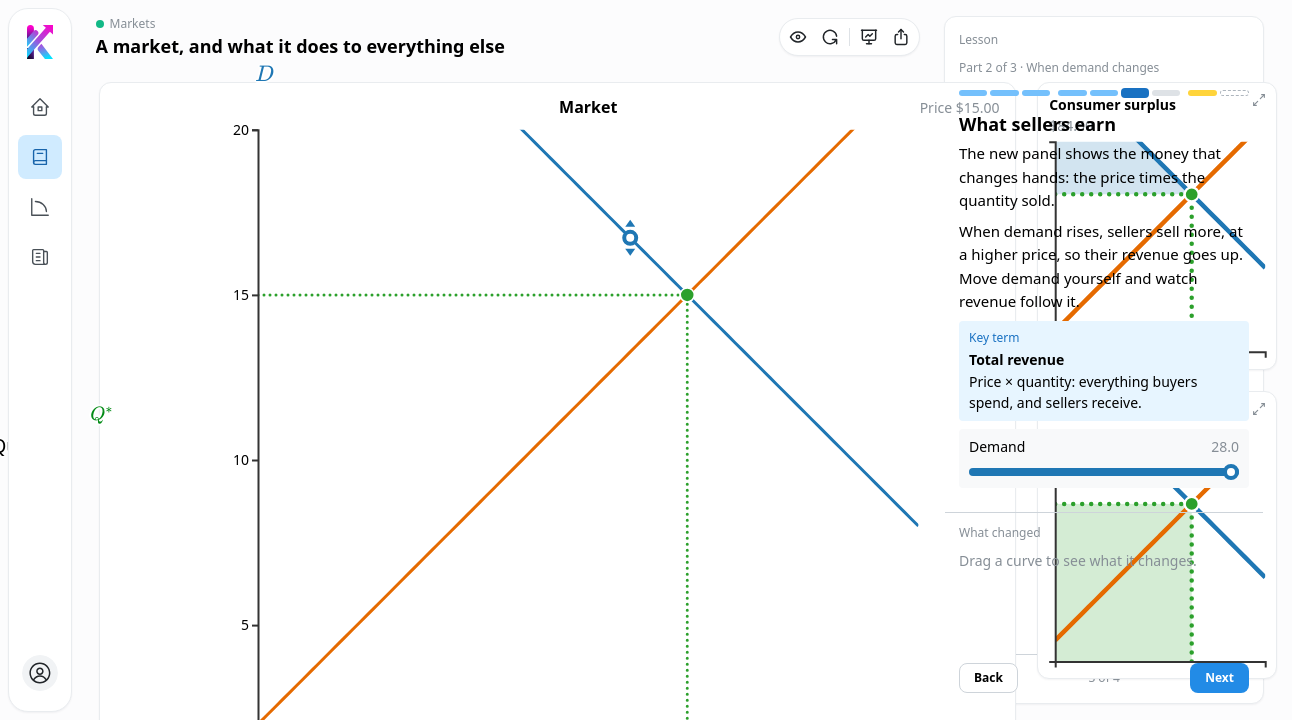
Test: Share › is each item's name alone, with nothing under it
Click the button named "Share": click(902, 37) [886, 22, 916, 52]
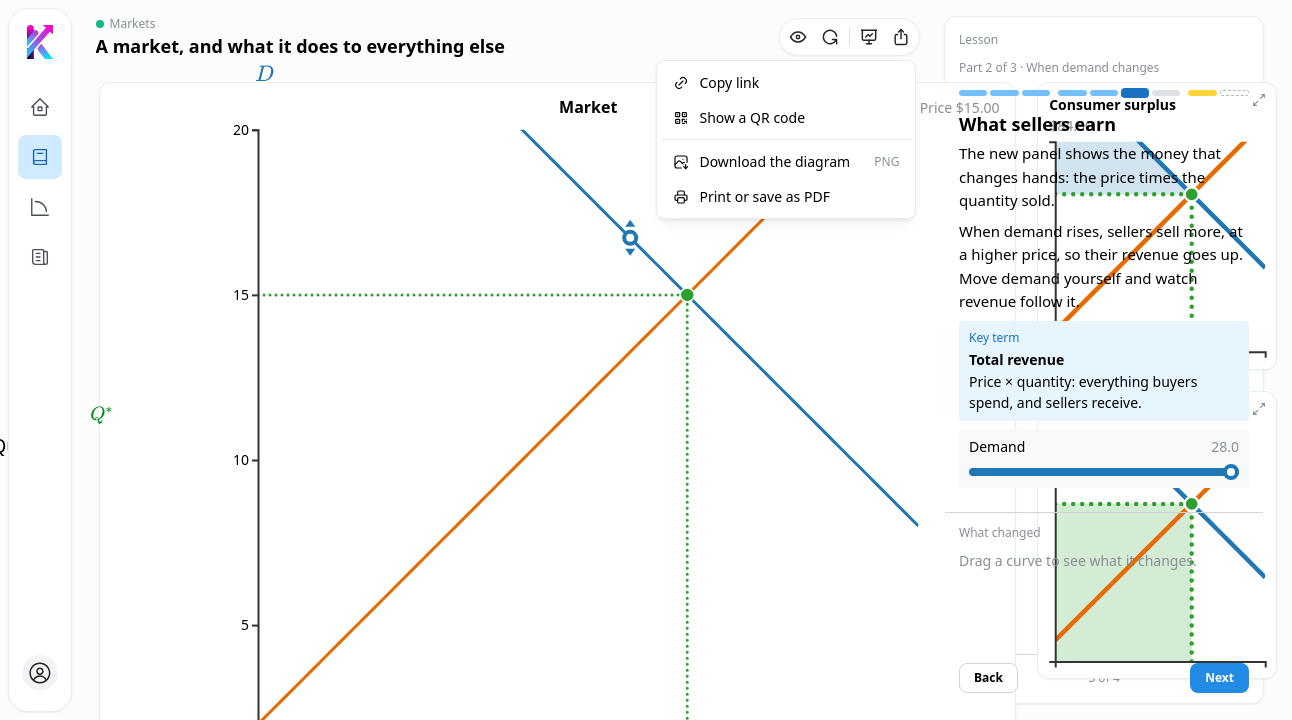
Result: the menu items read "Copy link", "Show a QR code", "Download the diagramPNG", "Print or save as PDF", in this order at [662, 65, 912, 100]; [662, 100, 912, 135]; [662, 144, 912, 179]; [662, 179, 912, 214]
